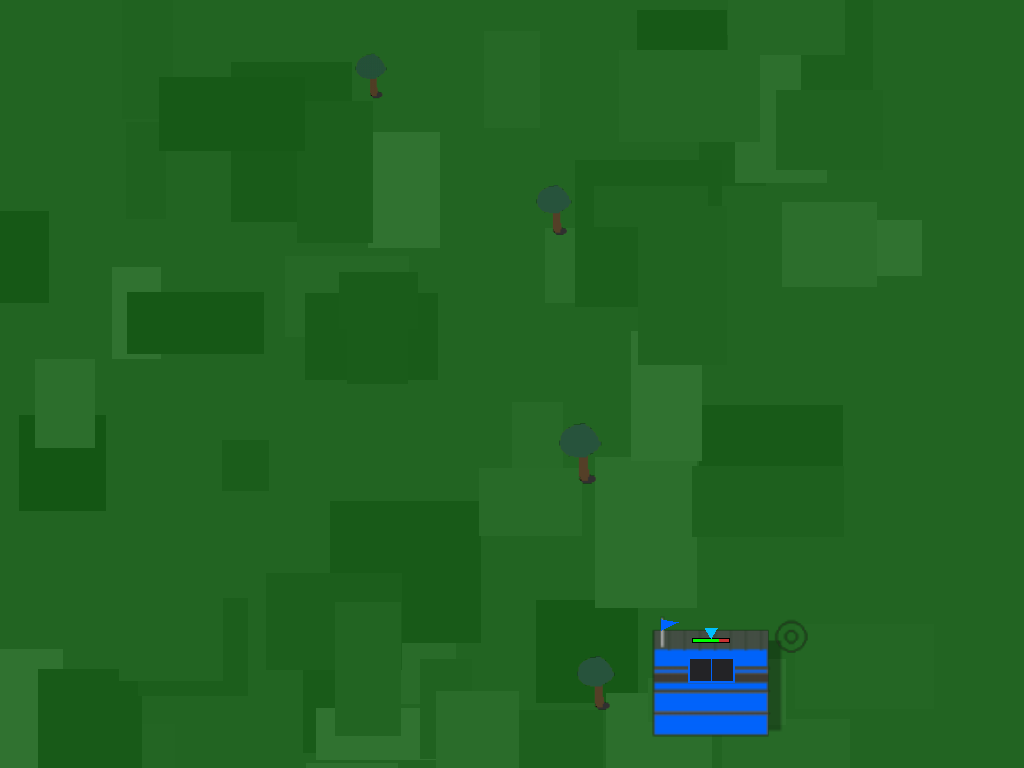APC_rus: (642, 568, 780, 706)
